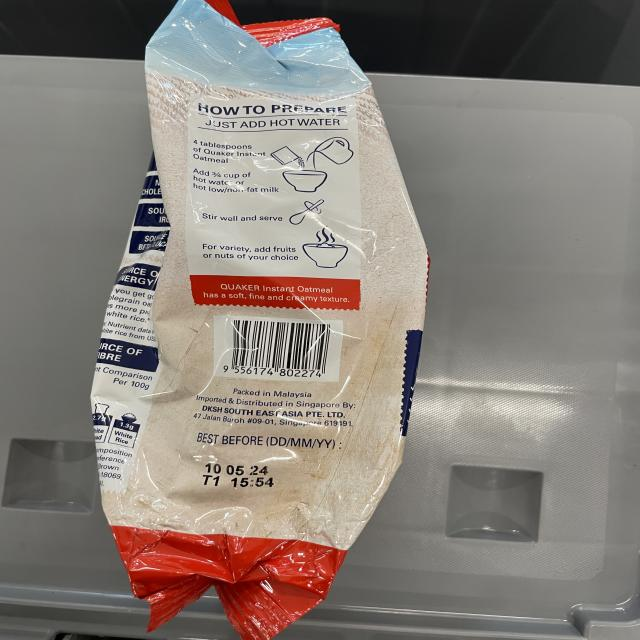object_name: (134, 5, 369, 613)
